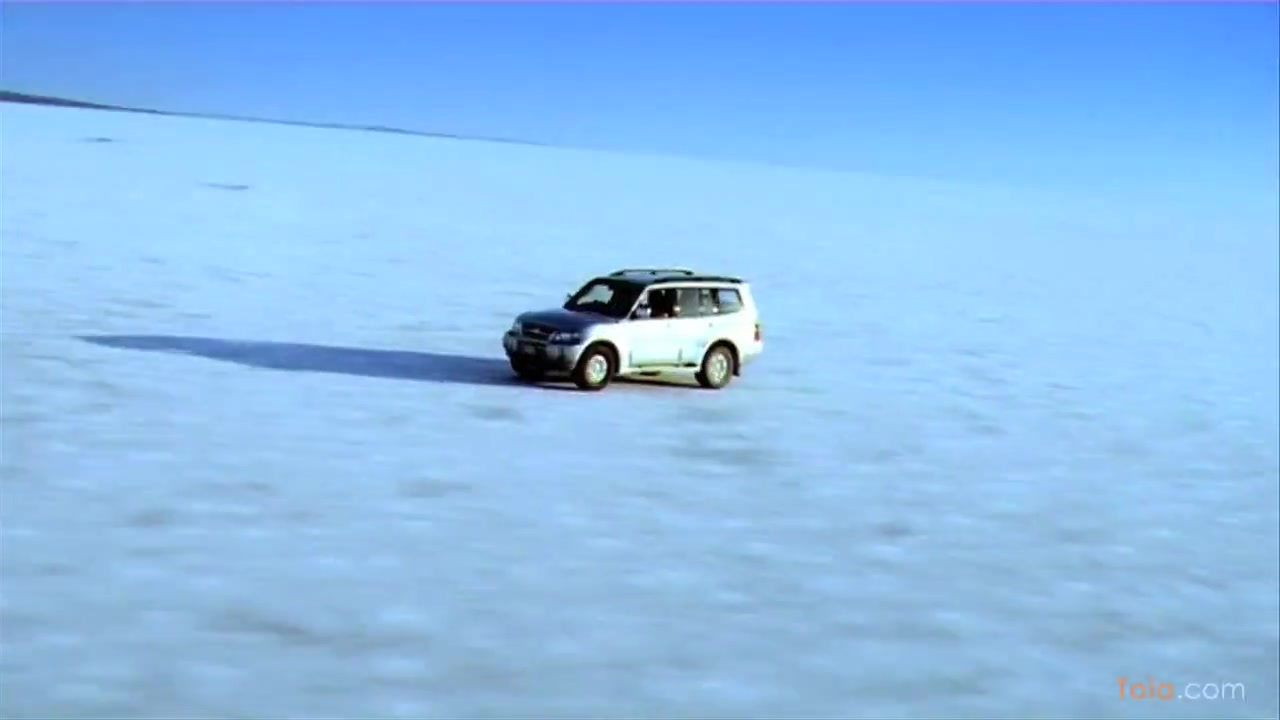car: (503, 264, 766, 391)
